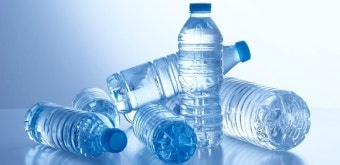plastic: (178, 2, 223, 150)
